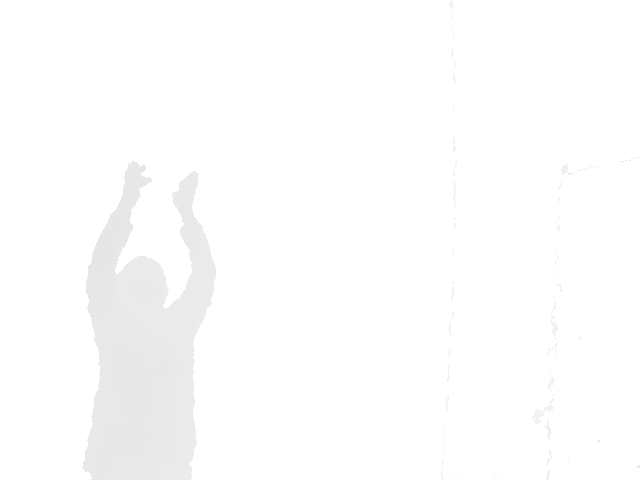hand: (116, 160, 153, 211), (170, 170, 200, 210)
head: (113, 255, 171, 323)
person: (81, 159, 218, 480)
